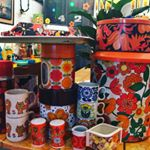cups: (3, 87, 39, 118), (27, 116, 48, 150), (76, 79, 107, 102), (47, 118, 68, 150), (76, 101, 108, 121), (70, 124, 88, 150)
